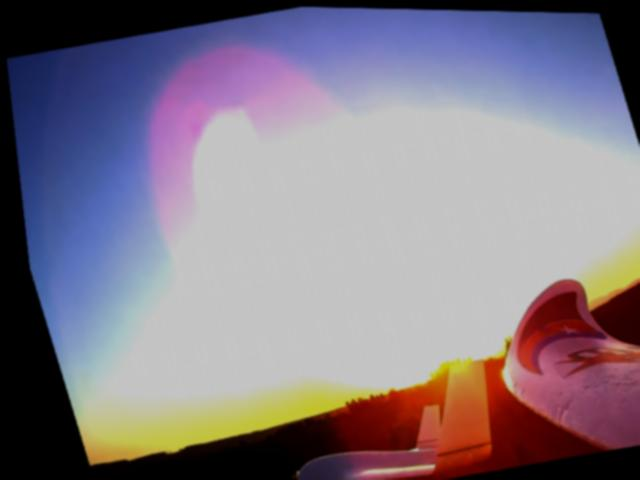plane: (252, 350, 509, 480)
